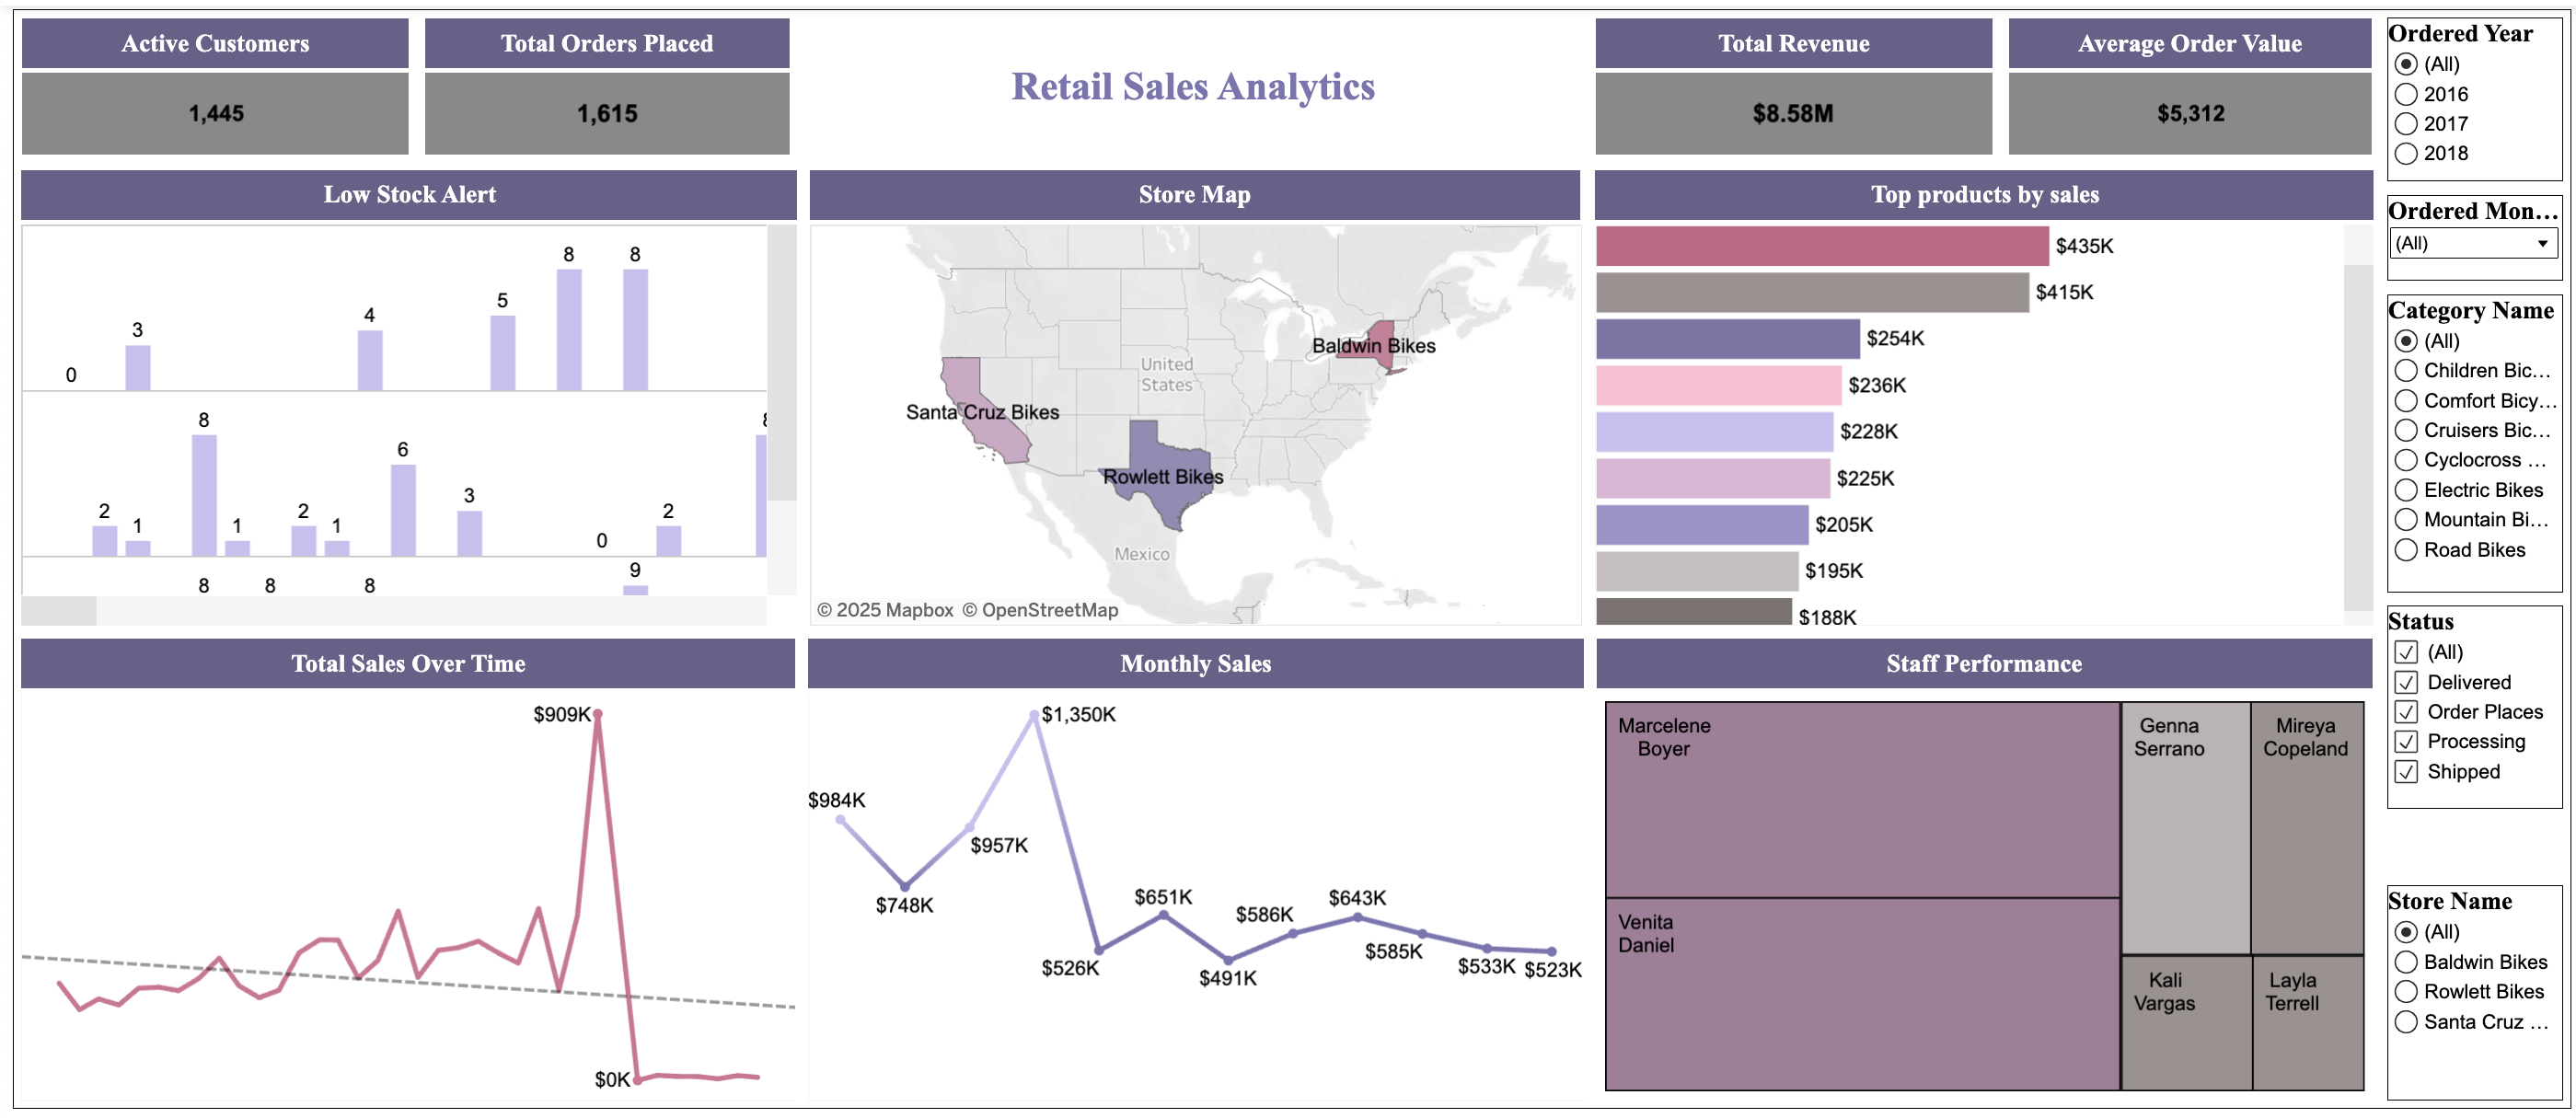

This screenshot's page, from the dashboard's own definition file:
{"tool":"tableau","page":{"name":"RETAIL SALES DB","canvas":[1000,1000],"units":"permille","ordinal":0},"visuals":[{"type":"worksheet","title":"Active Customer","mark":"Automatic","box":[6.5,14.5,154.3,134.3]},{"type":"worksheet","title":"Total orders","mark":"Automatic","box":[160.8,14.5,145.7,134.3]},{"type":"title","box":[306.5,14.5,302.2,134.3]},{"type":"worksheet","title":"Total Revenue","mark":"Automatic","box":[608.6,14.5,157.6,134.3]},{"type":"worksheet","title":"Average Order Value","mark":"Automatic","box":[766.2,14.5,145.3,134.3]},{"type":"filter","title":"Total Sales","param":"[federated.07h17dn0jo8h9m1cdp8cj0mv71j7].[yr:order_date:ok]","box":[911.6,14.5,82,172]},{"type":"worksheet","title":"Low stock","mark":"Bar","rows":["store_id (stocks.csv)","quantity (stocks.csv)"],"cols":["product_id (stocks.csv)"],"box":[6.5,148.8,301.7,416]},{"type":"worksheet","title":"Sales map","mark":"Multipolygon","box":[308.2,148.8,300.4,416]},{"type":"worksheet","title":"Top products","mark":"Automatic","rows":["product_name (order_items.csv)"],"cols":["total_price"],"box":[608.7,148.8,302.9,416]},{"type":"filter","title":"Total Sales","param":"[federated.07h17dn0jo8h9m1cdp8cj0mv71j7].[mn:order_date:ok]","box":[911.6,186.5,82,96.5]},{"type":"filter","title":"Top products","param":"[federated.07h17dn0jo8h9m1cdp8cj0mv71j7].[none:category_name:nk]","box":[911.6,282.9,82,302.2]},{"type":"worksheet","title":"Total Sales","mark":"Automatic","rows":["total_price"],"cols":["order_date"],"box":[6.5,564.8,301.3,420.7]},{"type":"worksheet","title":"Monthly Sales","mark":"Line","rows":["total_price"],"cols":["order_date"],"box":[307.8,564.8,301.6,420.7]},{"type":"worksheet","title":"Staff performance","mark":"Automatic","box":[609.4,564.8,302.1,420.7]},{"type":"filter","title":"Total Sales","param":"[federated.07h17dn0jo8h9m1cdp8cj0mv71j7].[none:status:nk]","box":[911.6,585.2,82,198.4]},{"type":"filter","title":"Low stock","param":"[federated.07h17dn0jo8h9m1cdp8cj0mv71j7].[none:store_name:nk]","box":[911.6,783.6,82,202]}]}

Visuals, with their boxes on the dashboard's canvas, which has no fixed pixel size, in thousandths of its width and height (x1, y1, x2, y2). These are canvas units, not pixel positions in the 2576x1118 screenshot, which may show the page scaled, cropped or inside an application window:
"Active Customer" worksheet: 6:14:161:149
"Total orders" worksheet: 161:14:306:149
title: 306:14:609:149
"Total Revenue" worksheet: 609:14:766:149
"Average Order Value" worksheet: 766:14:912:149
"Total Sales" filter: 912:14:994:186
"Low stock" worksheet (Bar marks): 6:149:308:565
"Sales map" worksheet (Multipolygon marks): 308:149:609:565
"Top products" worksheet: 609:149:912:565
"Total Sales" filter: 912:186:994:283
"Top products" filter: 912:283:994:585
"Total Sales" worksheet: 6:565:308:986
"Monthly Sales" worksheet (Line marks): 308:565:609:986
"Staff performance" worksheet: 609:565:912:986
"Total Sales" filter: 912:585:994:784
"Low stock" filter: 912:784:994:986
